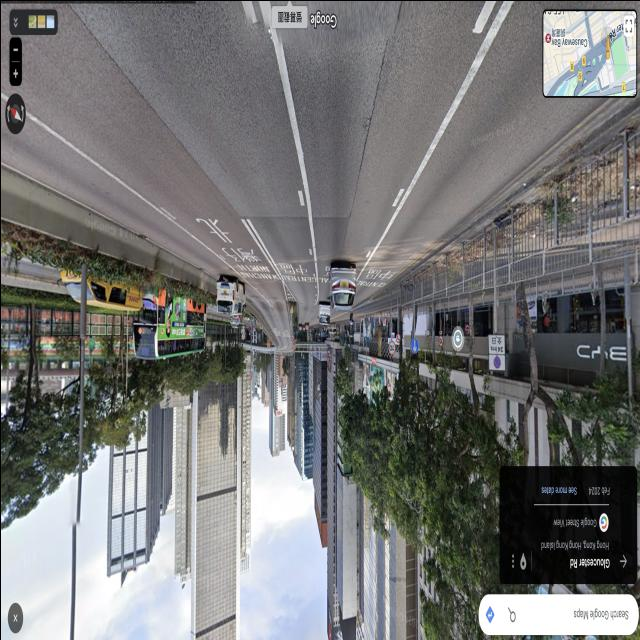Order-Sign: (488, 334, 504, 368), (410, 338, 418, 352), (388, 341, 394, 353), (394, 332, 400, 342), (438, 334, 442, 346), (290, 334, 292, 340), (247, 326, 250, 330), (241, 332, 243, 338)
